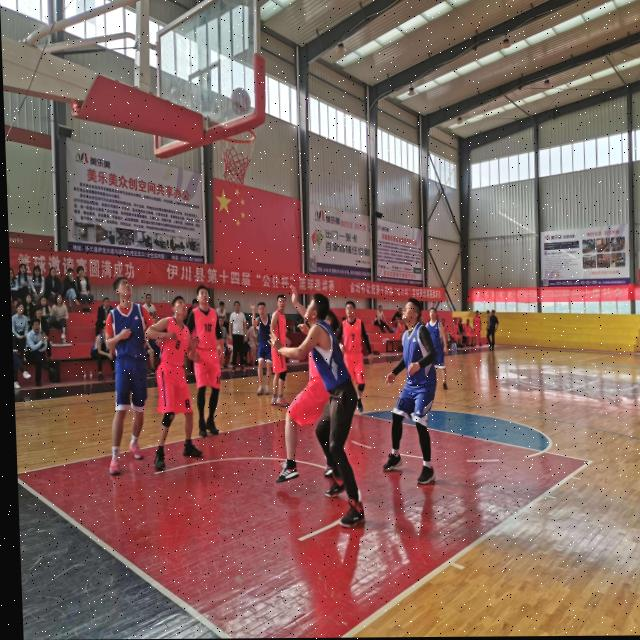basketball: (231, 86, 252, 116)
hoop: (220, 127, 259, 184)
